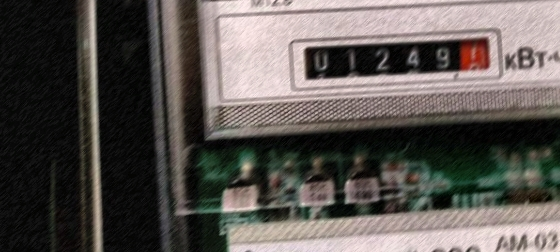0: (310, 44, 330, 72)
1: (342, 45, 358, 71)
2: (372, 45, 393, 73)
4: (404, 41, 424, 70)
7: (465, 37, 481, 62)
9: (433, 43, 453, 69)
screen: (280, 18, 517, 108)
